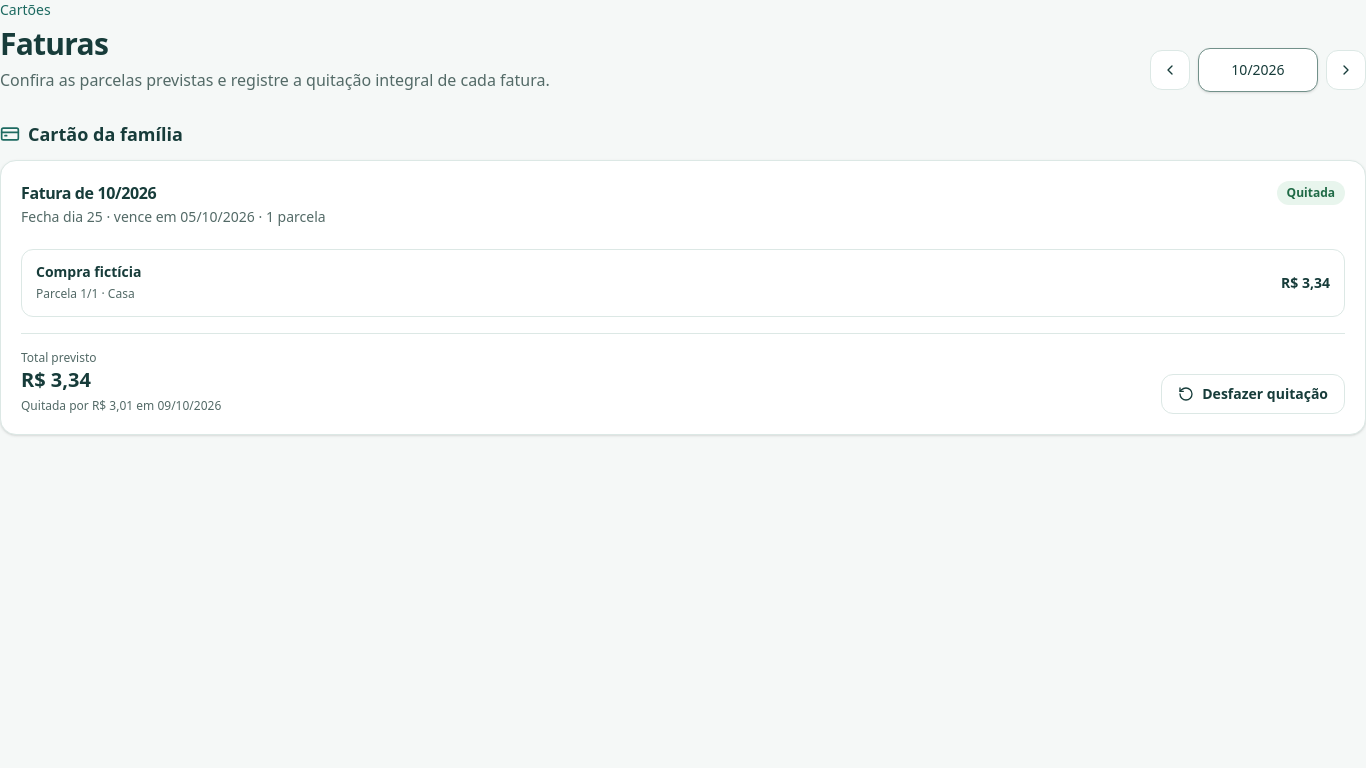
Test: invoices page › requires confirmation and queues a reversal offline in the scoped workspace
Click the button "Desfazer quitação" at [1253, 394], box [1161,374,1345,414]
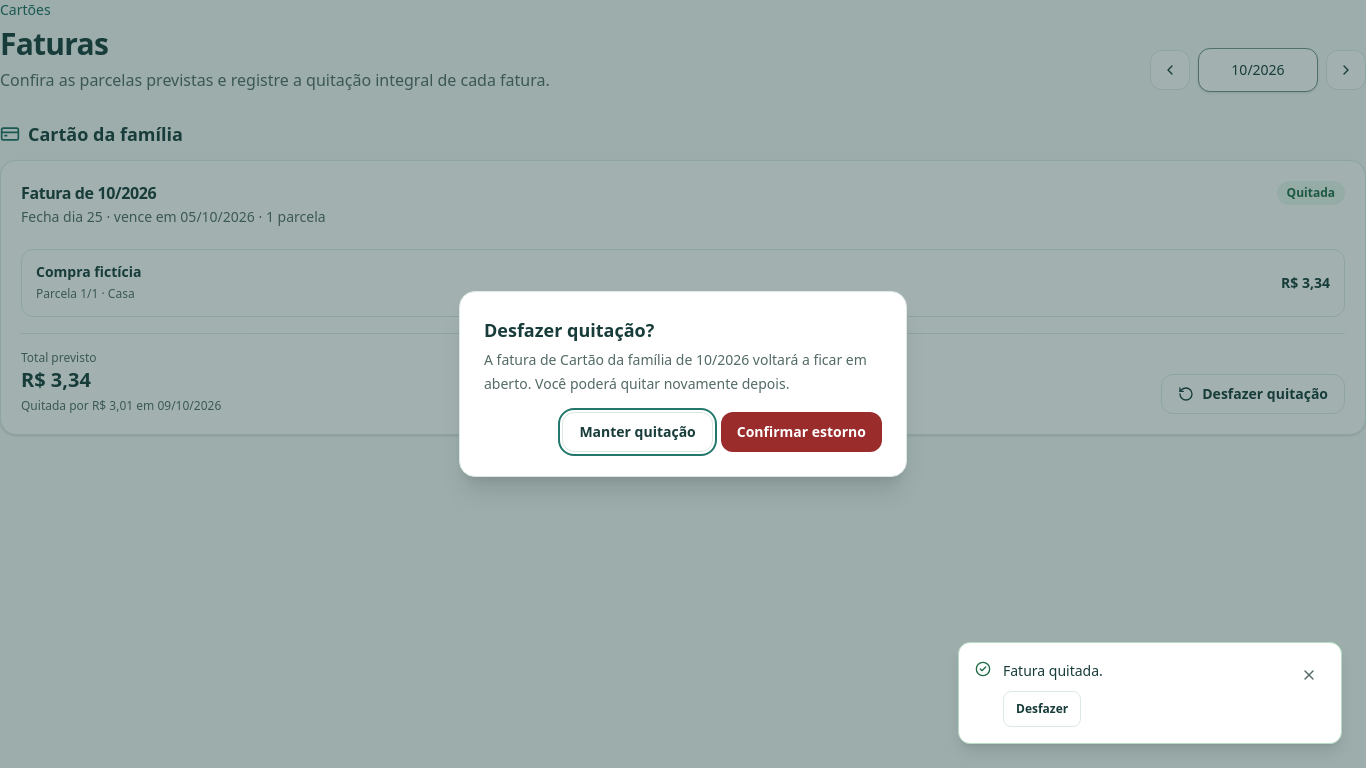
Check: the dialog "Desfazer quitação?" is shown, box [459,291,907,477]
Click the button "Confirmar estorno" at [801, 432], box [721,412,882,452]
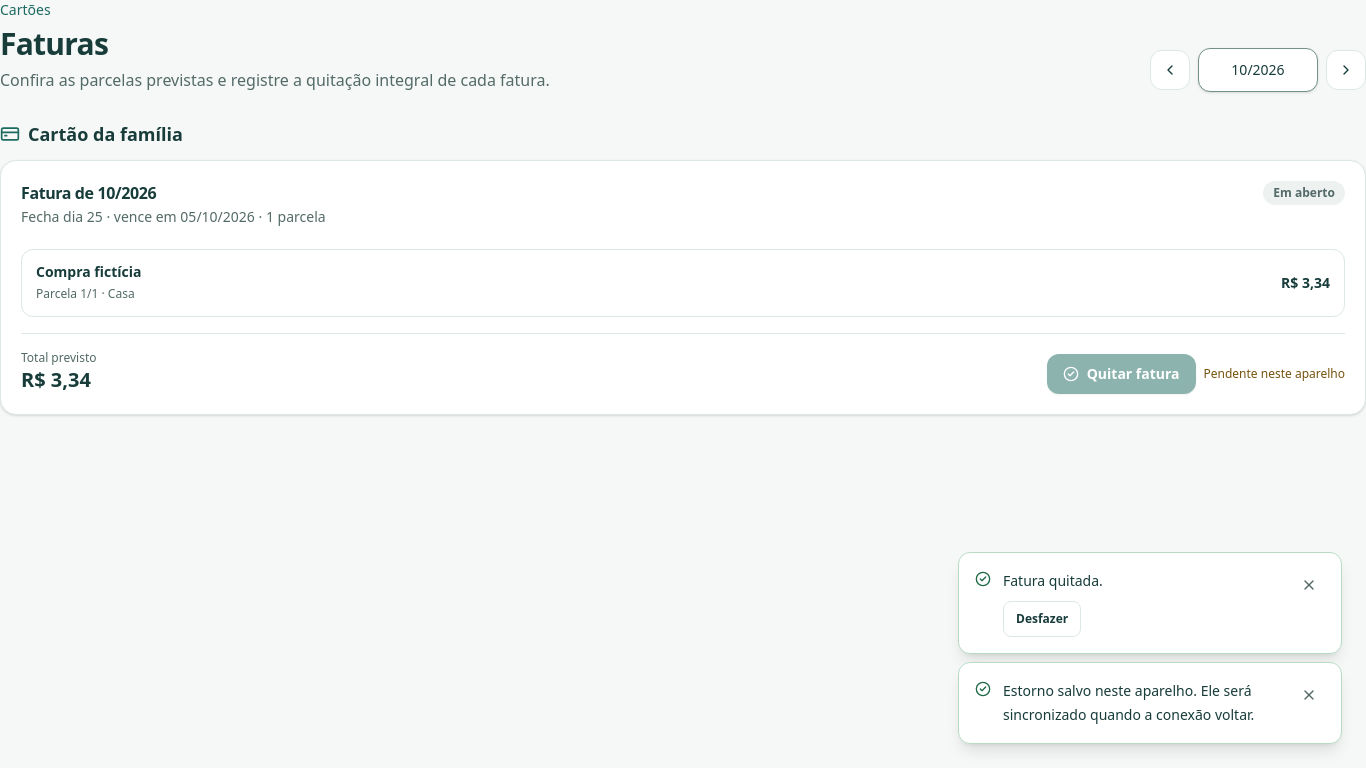
Check: the button "Quitar fatura" is shown, box [1047,354,1196,394]
Check: the text "Estorno salvo neste aparelho. Ele será sincronizado quando a conexão voltar." is shown, box [1003,679,1281,727]
Check: the text "Pendente neste aparelho" is shown, box [1204,366,1345,382]
